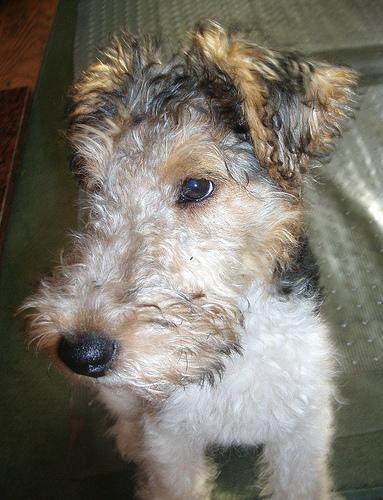wire-haired_fox_terrier: (23, 17, 362, 498)
